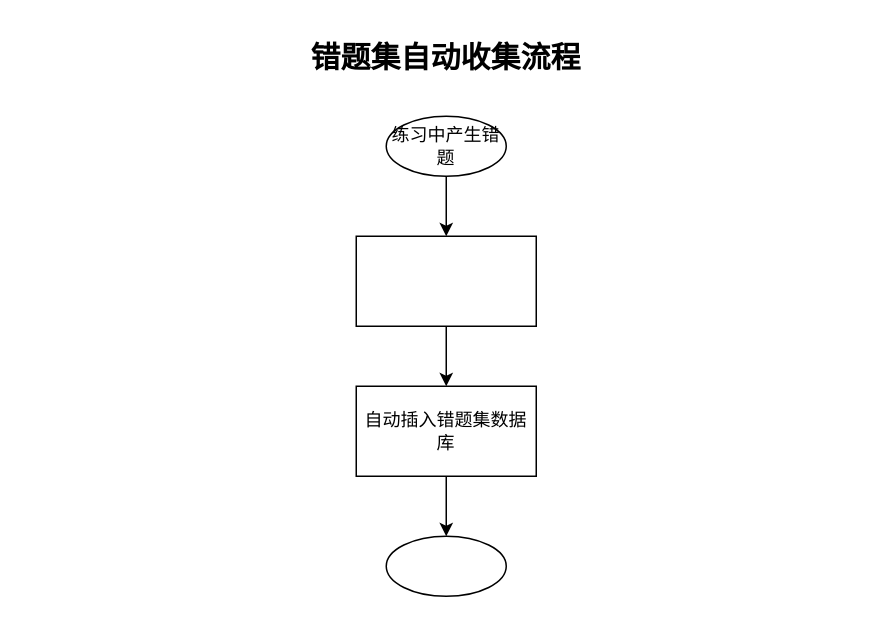
Some shapes in this 891 by 623 pixel diagram are drawn without their labels. Each missing label, with the centre of its shape:
系统检测错误选项: the point at 445,280
错题回顾页面可见: the point at 445,565
